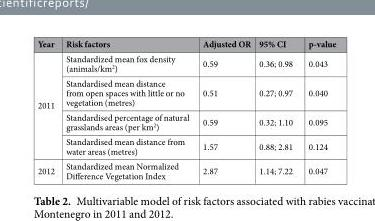table: (36, 37, 335, 181)
table column: (59, 37, 195, 181), (195, 37, 254, 181), (254, 37, 299, 181), (299, 37, 335, 181), (36, 37, 59, 181)
table column header: (36, 37, 335, 50)
table row: (36, 75, 335, 109), (36, 50, 335, 75), (36, 133, 335, 158), (36, 109, 335, 133), (36, 158, 335, 181), (36, 37, 335, 50)
table spanning cell: (36, 50, 59, 158)
